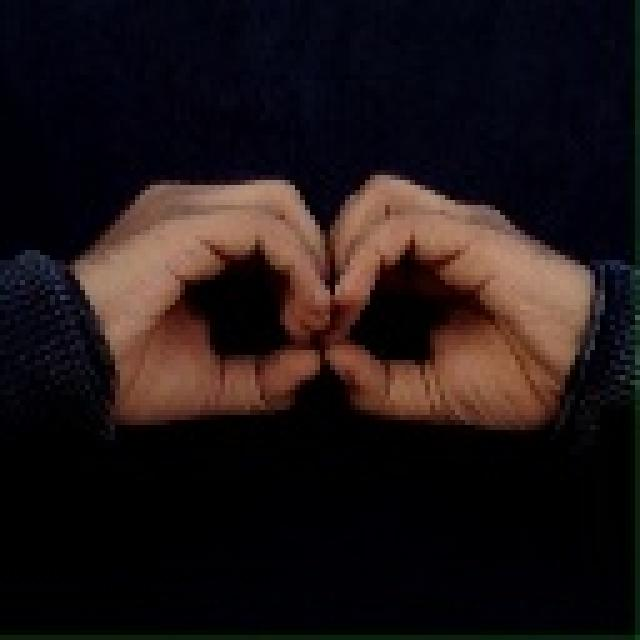Alphabet-B: (67, 161, 593, 429)
